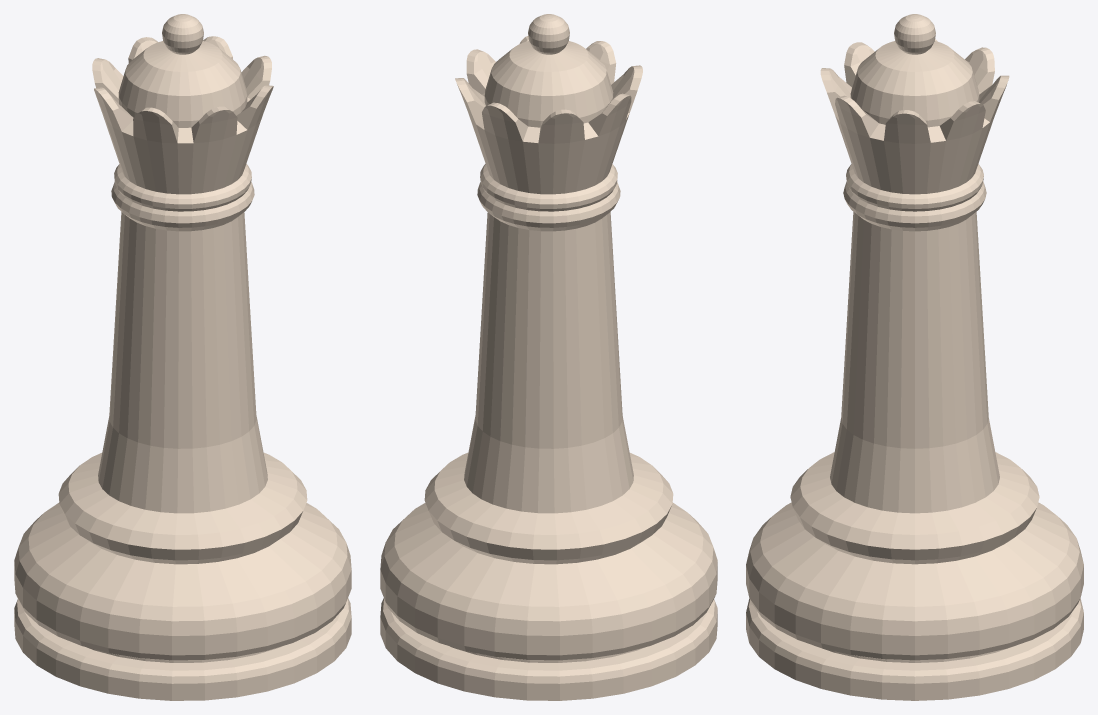
File: white queen.fbx
The picture shows the model from 3 angles, left to right: view 1: azimuth 30°, elevation 25°; view 2: azimuth 150°, elevation 25°; view 3: azimuth 270°, elevation 25°; orthographic projection.
Visible parts, largest first — view 1: chess queen.002; view 2: chess queen.002; view 3: chess queen.002.
Boxes of the visible parts, <box> form: chess queen.002: <box>14,14,351,700</box>; chess queen.002: <box>380,14,717,700</box>; chess queen.002: <box>746,14,1083,700</box>.
Bounding box in the file's own units: 200 × 400 × 200.
